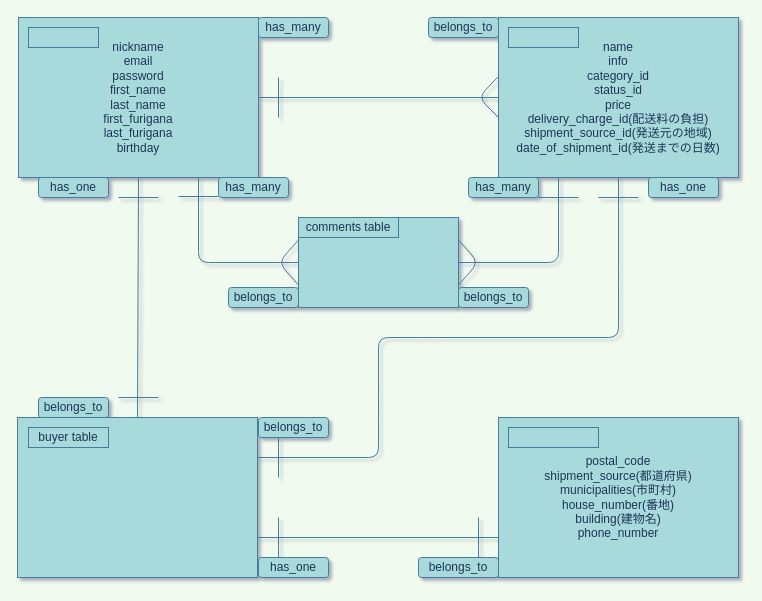
The diagram is 762 pixels wide and 601 high, and some of its shapes have lost their labels. The shapes that lost their labels are listed below. From the top down, each one's box as (x1, y1, x2, y2) in pixels, then its label:
(28, 26, 98, 48): users table
(508, 26, 578, 48): items table
(298, 216, 458, 308): text user item
(508, 426, 598, 448): address table
(16, 416, 258, 578): user item
